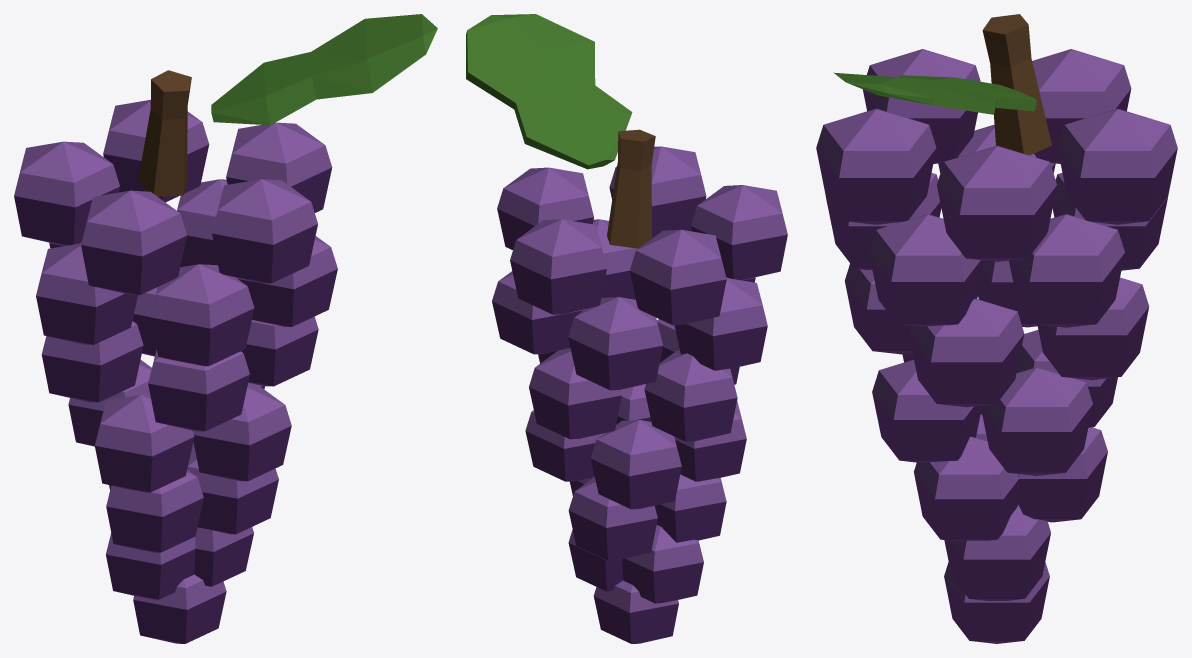
Rendered from grape.gltf.
3 renders of one model, left to right at view 1: azimuth 30°, elevation 25°; view 2: azimuth 150°, elevation 25°; view 3: azimuth 270°, elevation 25°, orthographic. The views are drawn at different scales.
Visible parts, largest first — view 1: grape; view 2: grape; view 3: grape.
Part boxes in pixels (x1=…): grape: x1=14, y1=14, x2=437, y2=643; grape: x1=466, y1=14, x2=787, y2=643; grape: x1=816, y1=14, x2=1177, y2=643.
Bounding box in the file's own units: 0.1635 × 0.261 × 0.1286.
